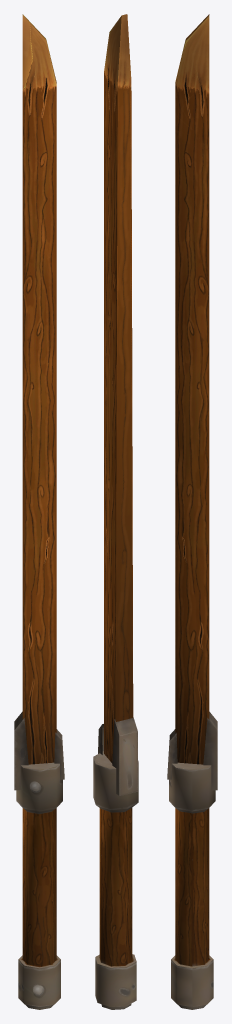
The model's file is Wooden_sword.fbx.
3 views of the same model, side by side, from view 1: azimuth 90°, elevation 25°; view 2: azimuth 210°, elevation 25°; view 3: azimuth 270°, elevation 25° (orthographic).
Parts seen in each view (by area): view 1: Wooden_sword; view 2: Wooden_sword; view 3: Wooden_sword.
Part boxes in pixels (x1,y1,x2,y2): Wooden_sword: [14, 14, 64, 1009]; Wooden_sword: [93, 14, 138, 1009]; Wooden_sword: [167, 14, 217, 1009].
Size of the model in its own units: 16.51 by 387 by 17.74.
1 material, 1 textured.
